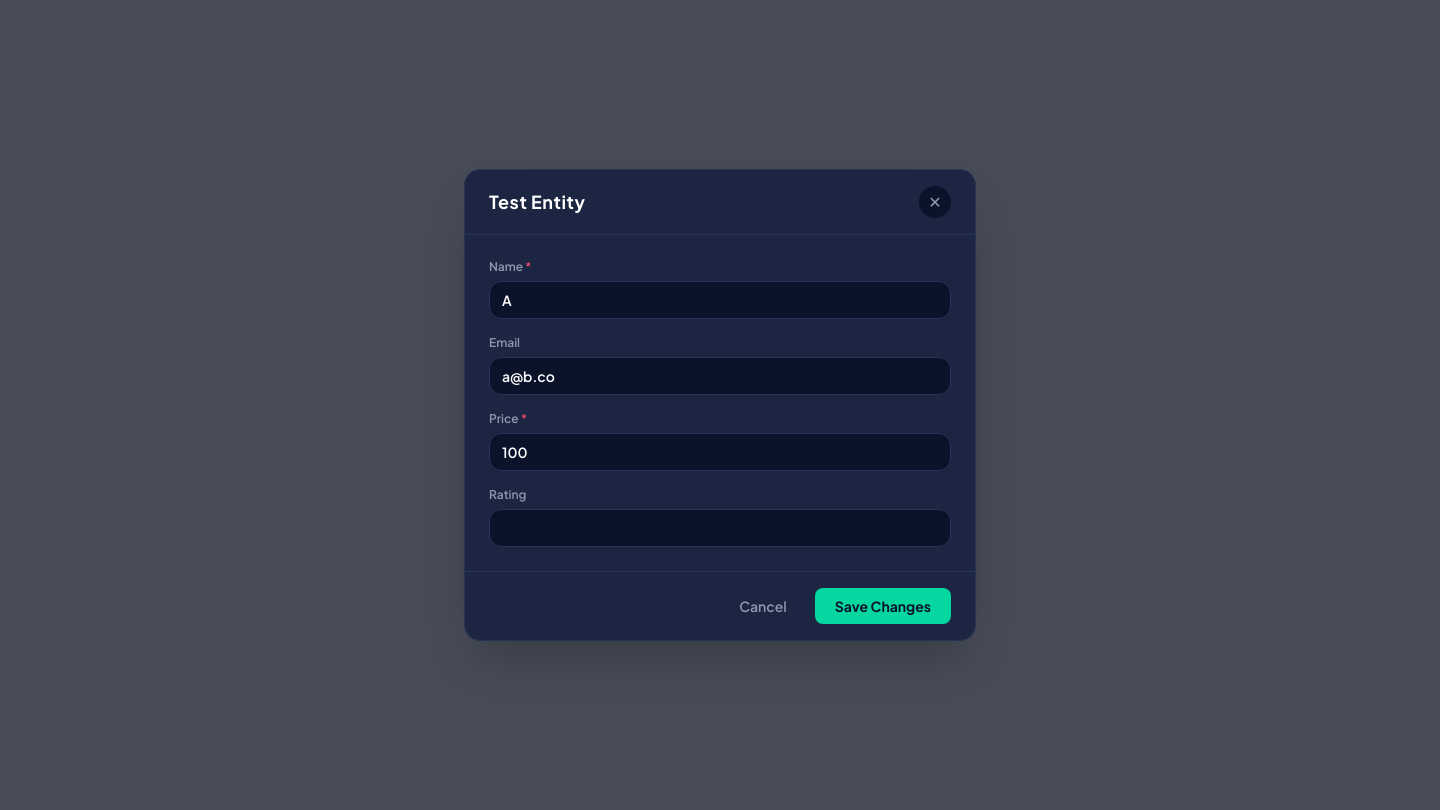
Test case: CrudModal input validation › rejects a malformed email
This screenshot has width=1440, height=810.
Step 1. Replace the text in the field showing "a@b.co" with "not-an-email" → (720, 376), box [489, 357, 951, 395]
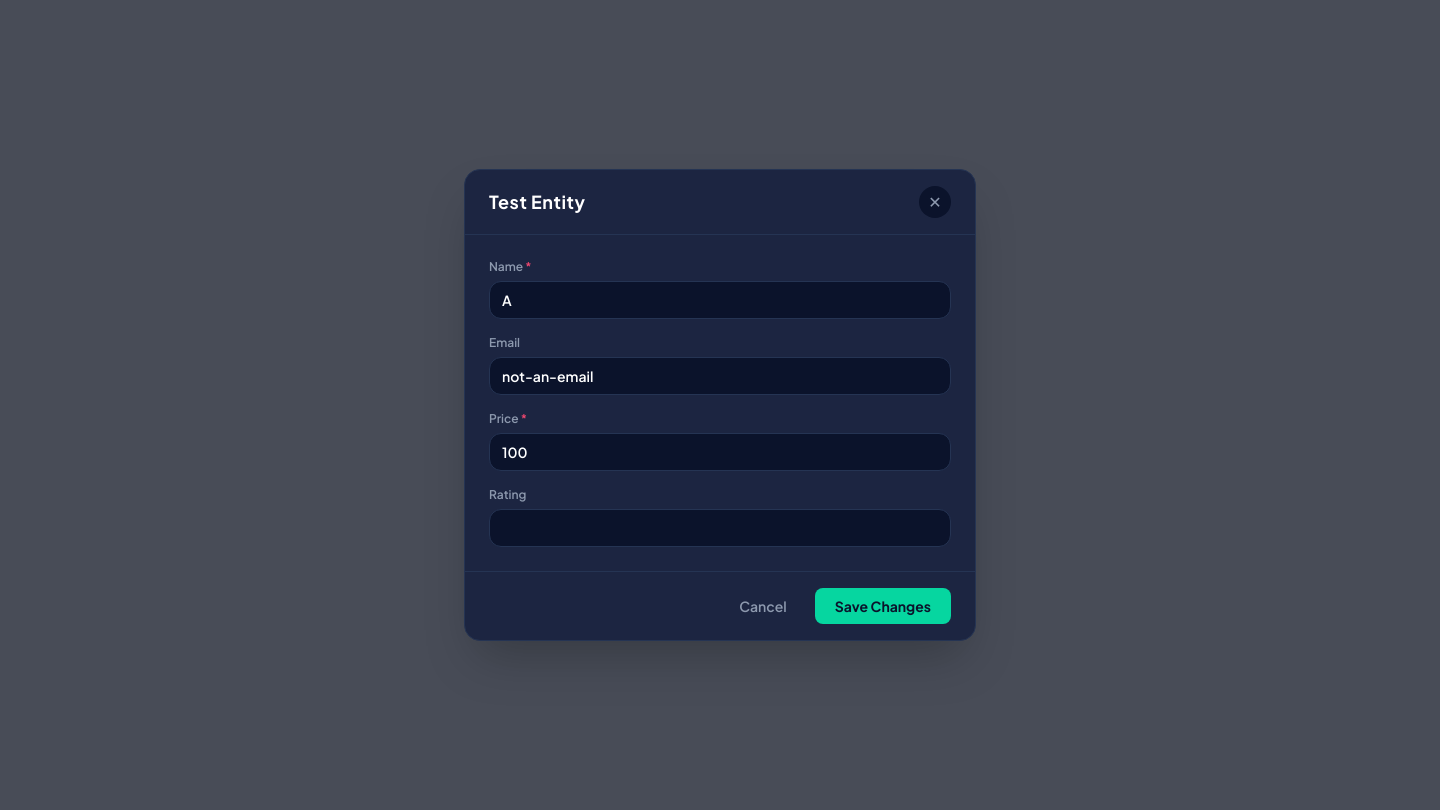
Step 2. Click the button "Save Changes" → (883, 606), box [815, 588, 951, 624]
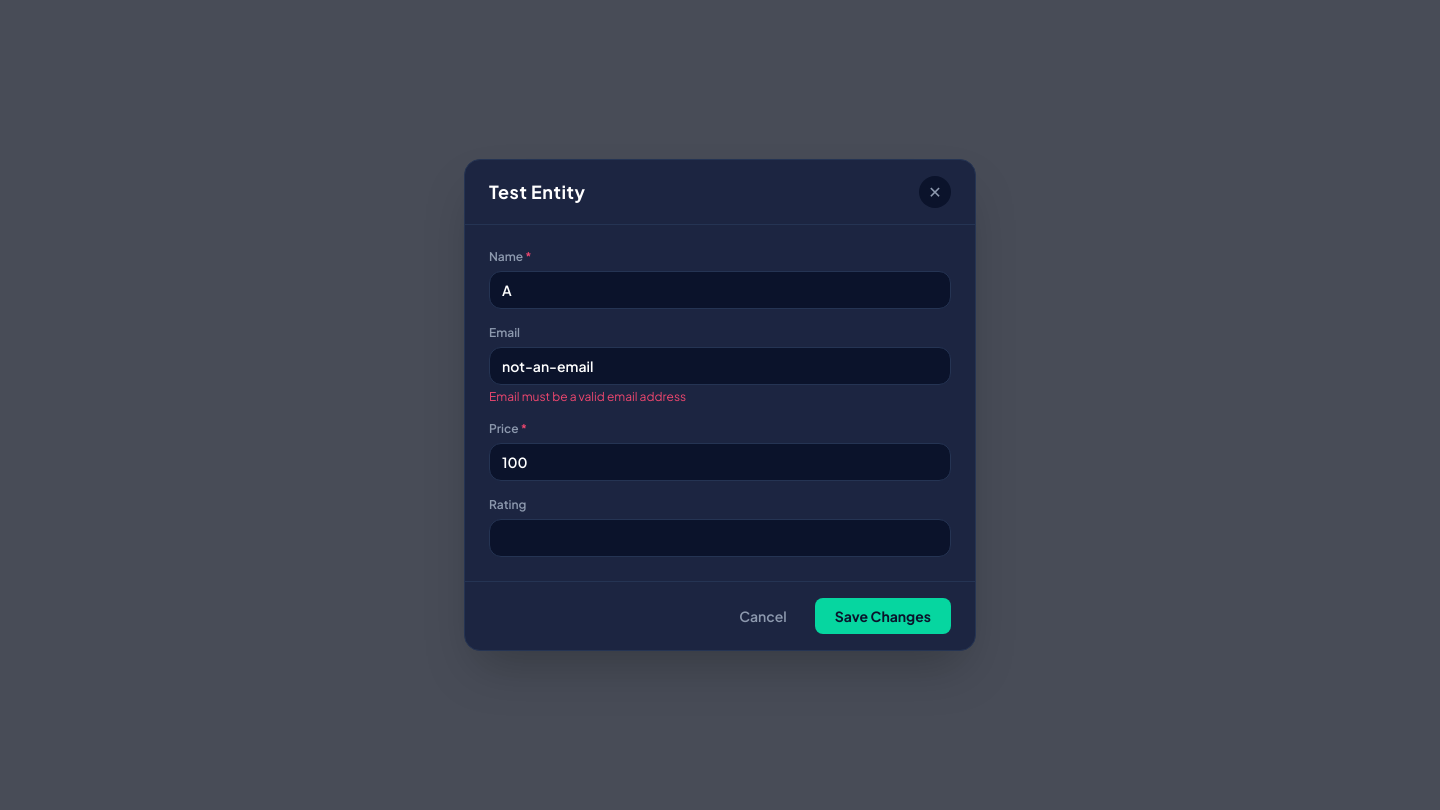
Now the text "Email must be a valid email address" is shown, box [489, 389, 686, 404]
